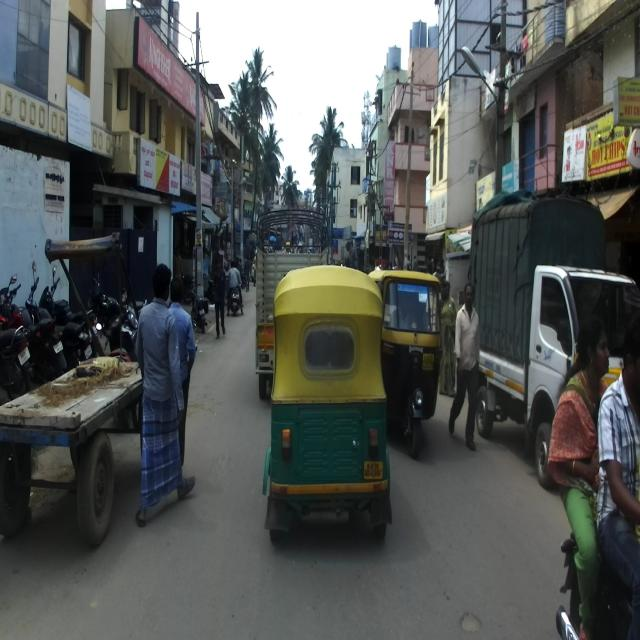autorickshaw: (262, 265, 392, 551), (367, 269, 441, 456)
motorcycle: (0, 272, 66, 390), (24, 294, 94, 366), (39, 278, 97, 352), (0, 312, 30, 400), (187, 281, 210, 334)
scooter: (226, 278, 244, 316)
truck: (464, 198, 637, 472)
